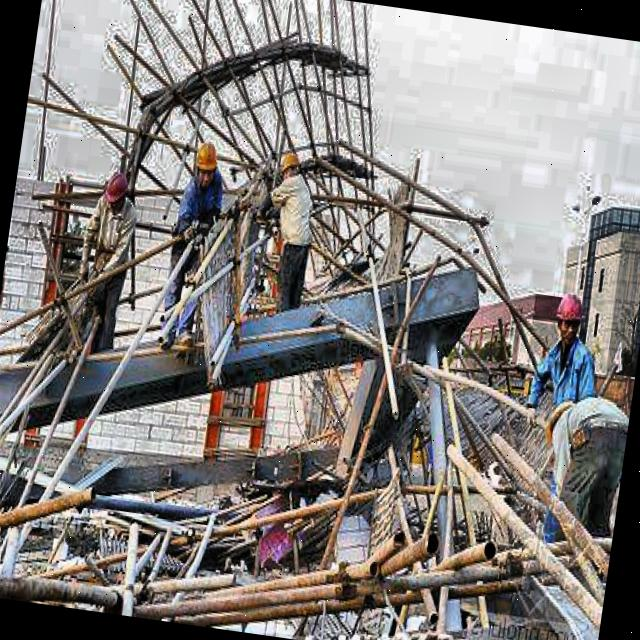helmet: (94, 164, 134, 234), (552, 286, 590, 348), (187, 139, 226, 193), (274, 148, 302, 186)
